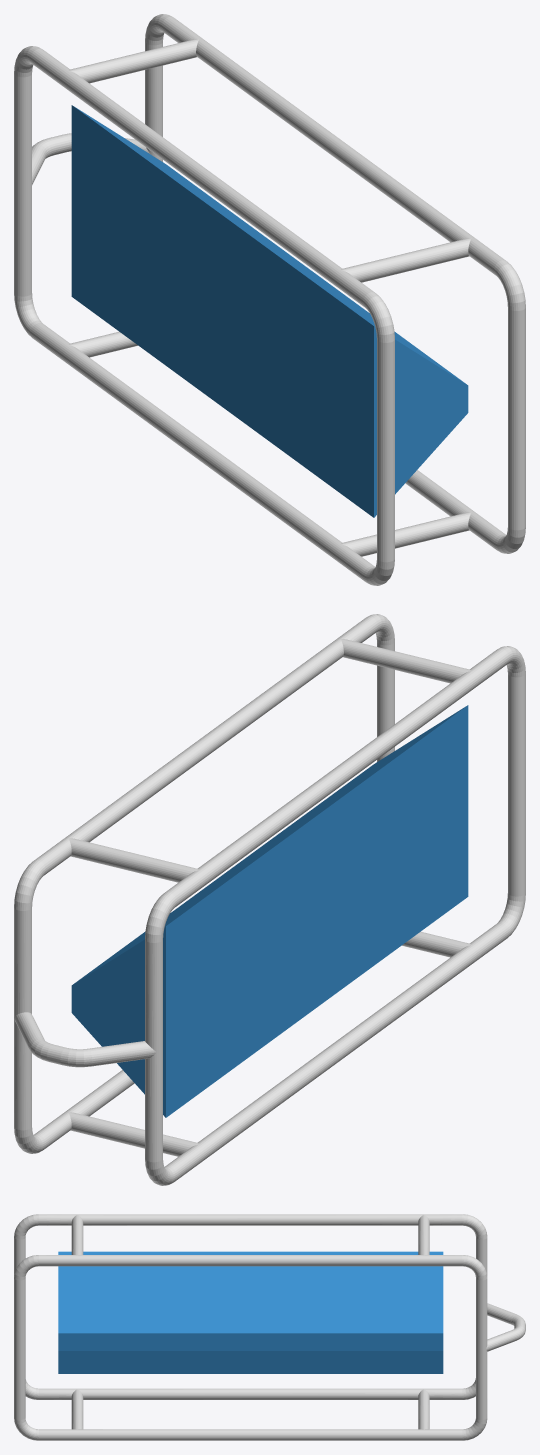
The model's file is frame_kolom_origin_com.dae.
The picture shows the model from 3 angles, top to bottom: view 1: azimuth 30°, elevation 25°; view 2: azimuth 150°, elevation 25°; view 3: azimuth 270°, elevation 25°; orthographic projection. The views are drawn at different scales.
Parts seen in each view (by area): view 1: node1, node0; view 2: node1, node0; view 3: node1, node0.
Part boxes in pixels (x1,y1,x2,y2): node1: [71, 105, 468, 517]; node0: [14, 14, 525, 585]; node1: [71, 705, 468, 1117]; node0: [14, 614, 525, 1185]; node1: [58, 1251, 443, 1373]; node0: [14, 1214, 525, 1440].
Bounding box in the file's own units: 0.28 × 1.33 × 0.53.
